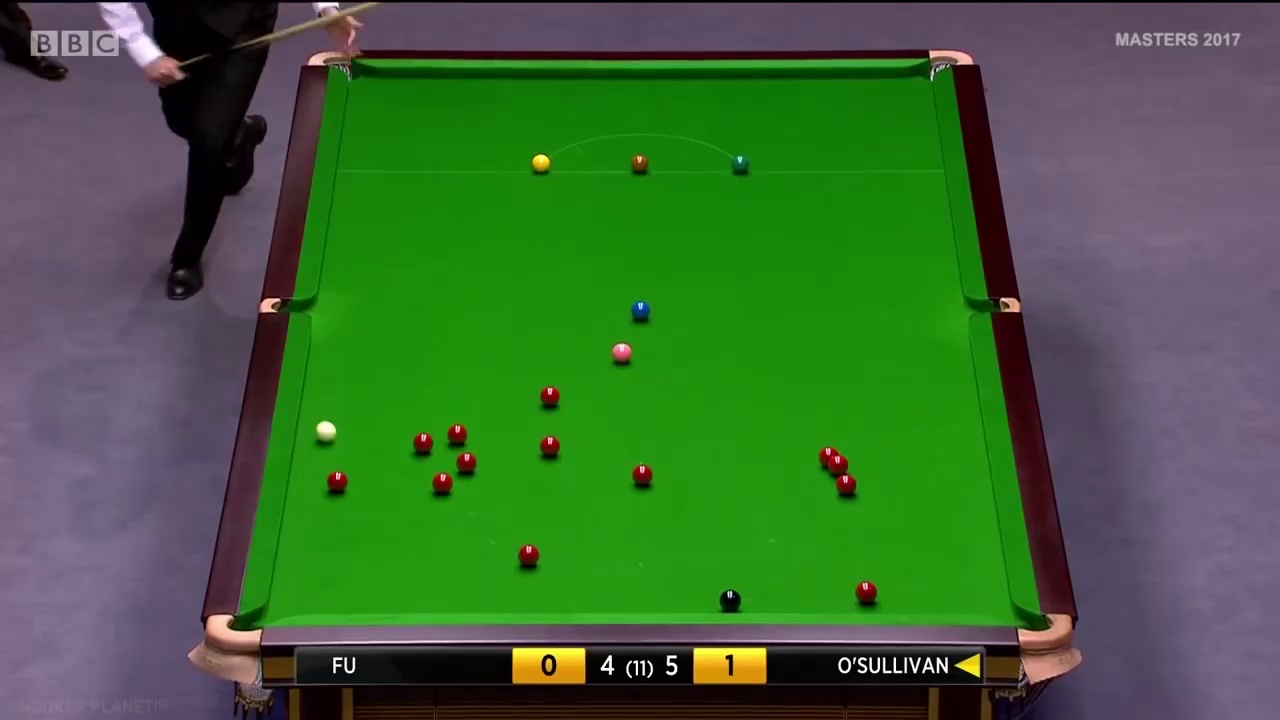ball: (514, 543, 541, 568), (630, 463, 656, 487), (853, 581, 878, 605), (537, 384, 560, 409), (832, 474, 859, 495), (528, 153, 554, 174), (412, 431, 435, 454), (455, 451, 476, 475), (630, 151, 652, 173), (610, 340, 630, 363), (429, 472, 452, 492), (541, 433, 562, 454), (732, 152, 752, 173), (631, 301, 651, 321), (327, 471, 347, 490)
